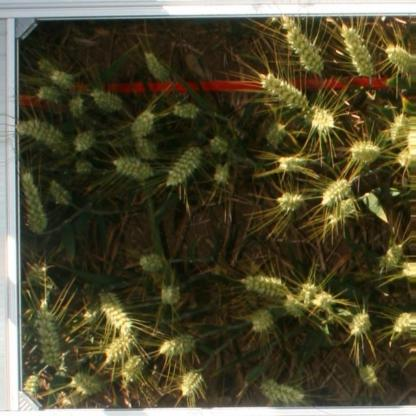whd: (281, 16, 324, 74), (260, 72, 309, 114), (15, 119, 68, 156), (341, 23, 374, 77), (20, 172, 48, 235), (36, 302, 61, 365), (165, 146, 203, 186), (100, 292, 132, 332), (241, 276, 292, 297), (260, 379, 304, 402), (112, 157, 154, 179), (159, 333, 195, 356), (105, 336, 132, 364), (322, 178, 350, 205), (349, 140, 382, 162), (130, 109, 154, 138), (144, 53, 168, 82), (71, 372, 102, 394), (385, 45, 412, 70), (90, 89, 122, 110), (328, 198, 353, 224), (37, 58, 63, 82), (121, 354, 143, 382), (47, 180, 72, 204), (180, 370, 203, 396), (311, 107, 335, 131), (264, 122, 288, 146), (250, 309, 274, 332), (380, 243, 402, 268), (276, 192, 303, 211), (391, 114, 409, 142), (26, 262, 48, 284), (350, 312, 371, 335), (135, 138, 158, 159), (36, 86, 62, 104), (74, 130, 95, 152), (50, 70, 74, 89), (276, 157, 304, 173), (284, 294, 303, 317), (68, 95, 85, 118), (393, 312, 412, 332), (173, 102, 198, 117), (161, 284, 179, 304), (311, 290, 332, 307), (140, 254, 162, 270), (209, 135, 228, 153), (359, 365, 376, 385), (301, 283, 315, 306), (82, 307, 102, 323), (24, 374, 38, 395), (214, 163, 228, 184), (303, 106, 317, 125), (74, 161, 92, 174), (398, 150, 412, 166), (402, 262, 412, 277)
